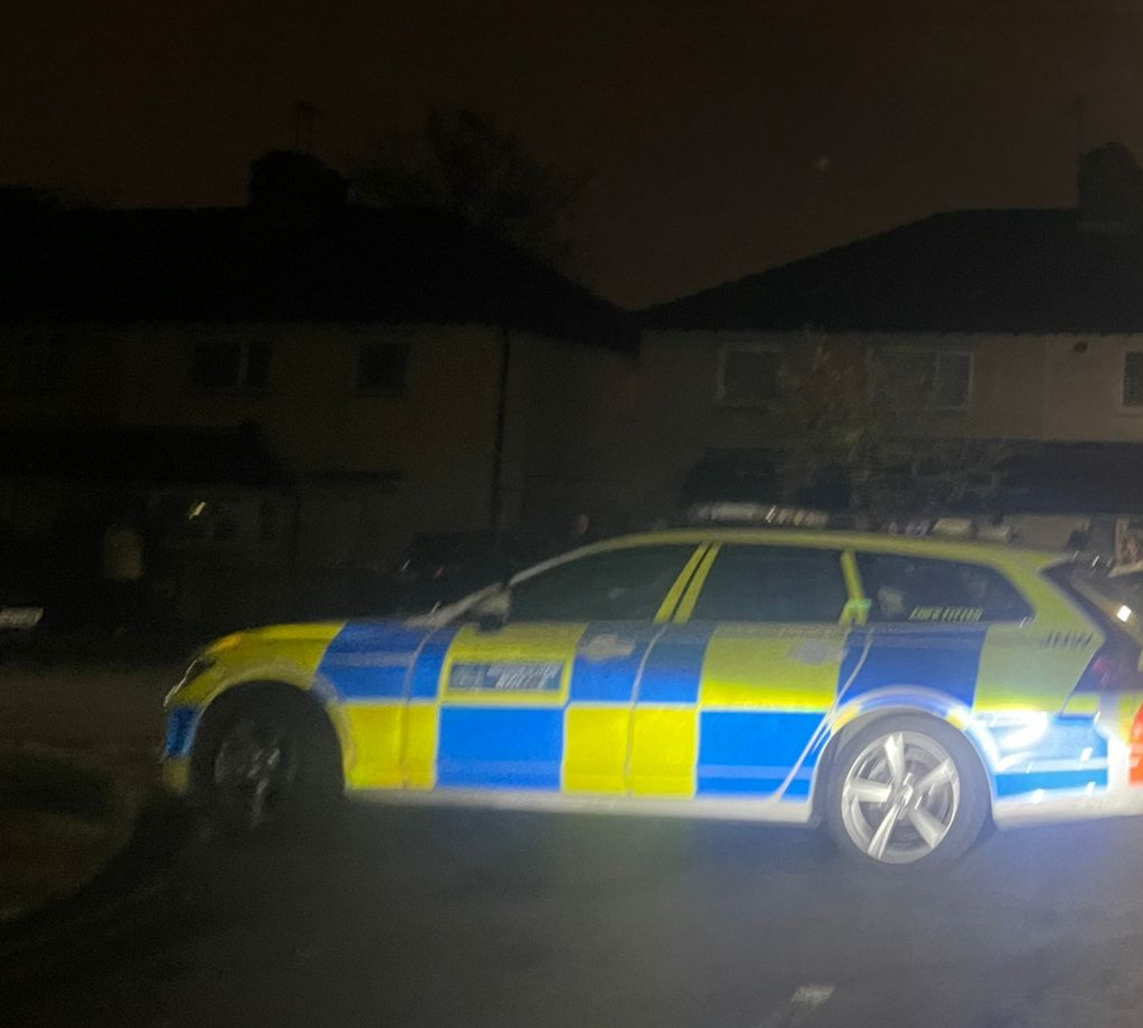Car: (143, 496, 1143, 870)
